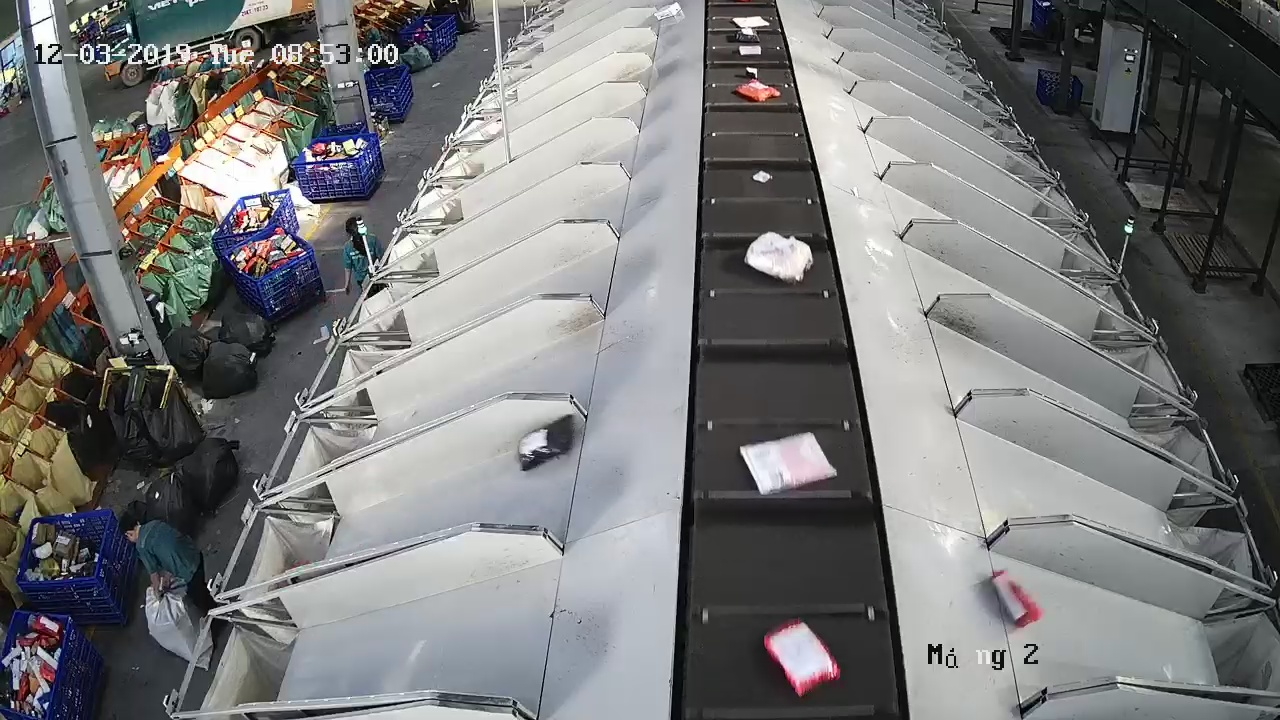parcel: (761, 614, 843, 700), (737, 430, 839, 497), (742, 229, 815, 286), (988, 563, 1045, 630), (516, 411, 577, 472), (750, 167, 775, 185)
